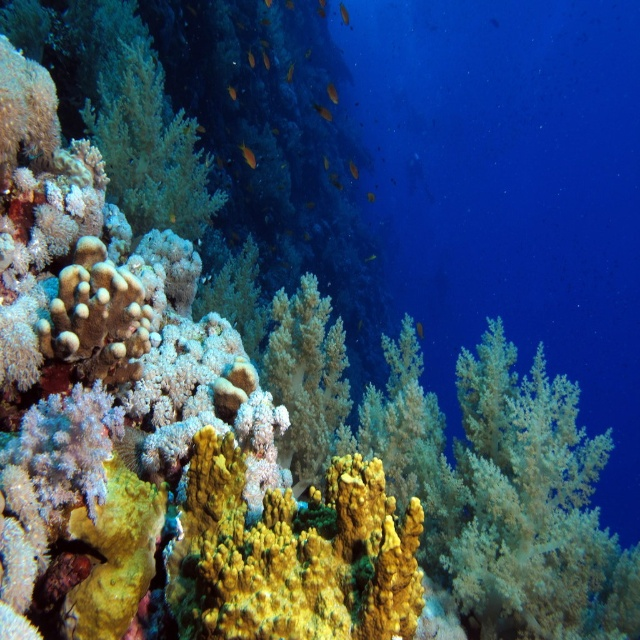Fish: (239, 134, 256, 168), (314, 99, 334, 121), (327, 82, 338, 104), (340, 4, 350, 26), (287, 63, 296, 85), (226, 82, 236, 100), (350, 161, 359, 180), (263, 51, 270, 72), (197, 124, 206, 134), (417, 324, 423, 338), (324, 154, 329, 169), (367, 194, 376, 202), (249, 55, 254, 67), (318, 8, 326, 15), (304, 202, 315, 207), (285, 1, 293, 7), (319, 0, 328, 5), (369, 256, 378, 261), (266, 1, 272, 7)
